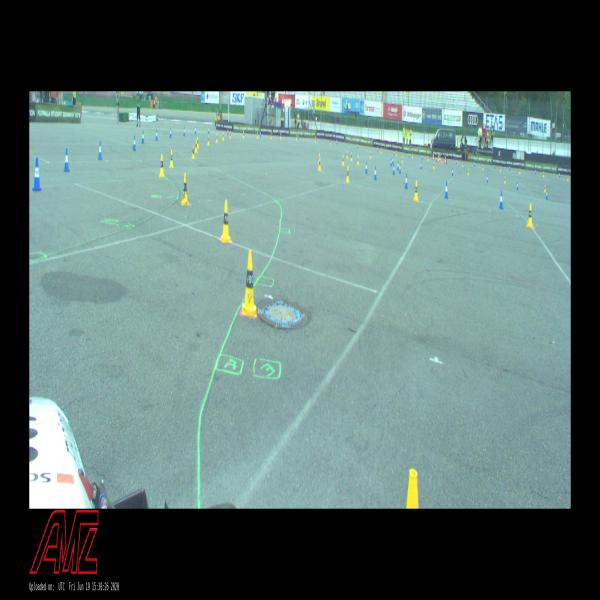blue_cone: (32, 157, 42, 191), (64, 148, 70, 172), (98, 141, 103, 160), (499, 191, 503, 209), (444, 182, 448, 199), (404, 174, 408, 189), (132, 136, 136, 150), (374, 166, 377, 180), (365, 162, 368, 173), (392, 164, 395, 175), (142, 131, 144, 144), (156, 129, 158, 141), (399, 163, 401, 174), (170, 128, 172, 138), (184, 127, 186, 136), (546, 190, 548, 199), (397, 161, 399, 170), (516, 181, 518, 190), (194, 126, 196, 134), (390, 158, 392, 166), (486, 174, 488, 182), (420, 162, 422, 169), (227, 128, 229, 135), (435, 155, 437, 162), (493, 162, 495, 169), (297, 133, 299, 139), (336, 138, 338, 144), (452, 168, 453, 176), (208, 126, 209, 134), (422, 152, 423, 160), (392, 157, 393, 164), (260, 130, 261, 137), (409, 151, 410, 158), (474, 160, 475, 167), (357, 142, 358, 148), (377, 146, 378, 152), (394, 150, 395, 156), (456, 158, 457, 164), (509, 165, 510, 171), (535, 168, 536, 174), (559, 171, 560, 177)
large_orange_cone: (439, 152, 441, 162), (438, 154, 439, 163), (445, 156, 446, 164), (433, 152, 434, 160)
yellow_cone: (242, 250, 257, 317), (220, 200, 232, 242), (181, 173, 189, 205), (527, 204, 533, 228), (159, 154, 165, 177), (169, 150, 174, 168), (414, 180, 418, 202), (191, 144, 195, 159), (194, 140, 198, 153), (346, 166, 349, 183), (318, 157, 321, 171), (197, 137, 199, 149), (342, 155, 344, 166), (318, 153, 320, 164), (216, 133, 218, 143), (222, 132, 224, 141), (544, 184, 546, 192), (467, 168, 469, 176), (357, 156, 359, 164), (270, 132, 272, 140), (280, 132, 282, 140), (542, 170, 544, 178), (504, 176, 506, 183), (346, 152, 348, 159), (401, 156, 403, 163), (499, 166, 501, 173), (427, 155, 429, 161), (519, 168, 521, 174), (567, 175, 569, 181), (482, 164, 484, 170), (296, 134, 298, 140), (411, 152, 413, 158), (208, 135, 209, 145), (230, 130, 231, 139), (351, 153, 352, 161), (243, 131, 244, 139), (462, 160, 463, 168), (257, 132, 258, 139), (370, 152, 371, 159), (433, 162, 434, 169), (441, 157, 442, 164), (381, 147, 382, 154), (396, 149, 397, 156), (315, 136, 316, 142), (330, 139, 331, 145), (349, 142, 350, 148), (366, 145, 367, 151)
